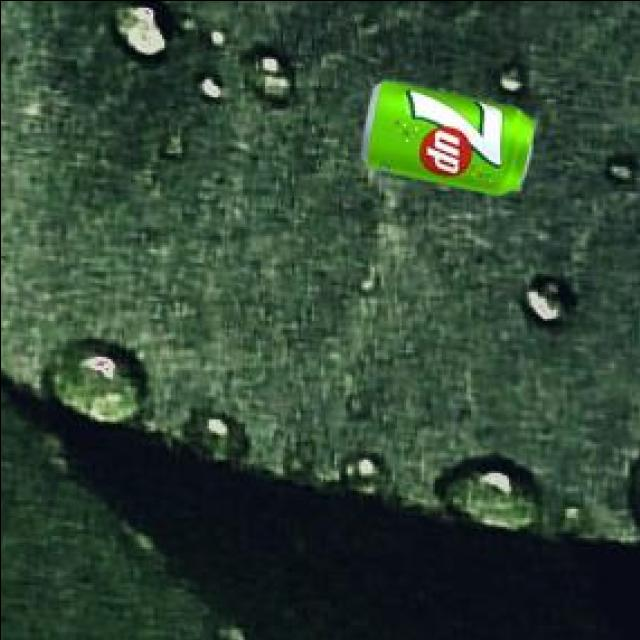logam: (357, 77, 530, 189)
